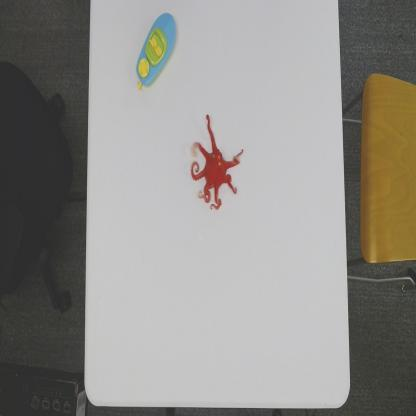Boat: (134, 10, 178, 92)
Octopus: (189, 112, 245, 212)
